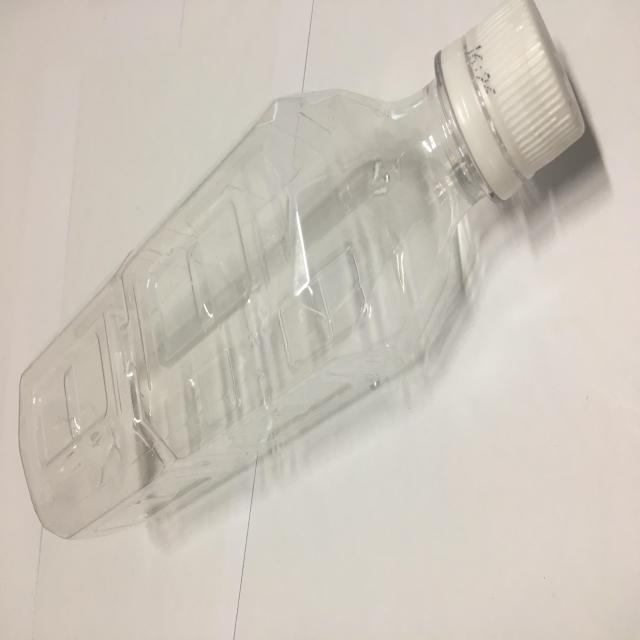bottle: (11, 0, 592, 546)
